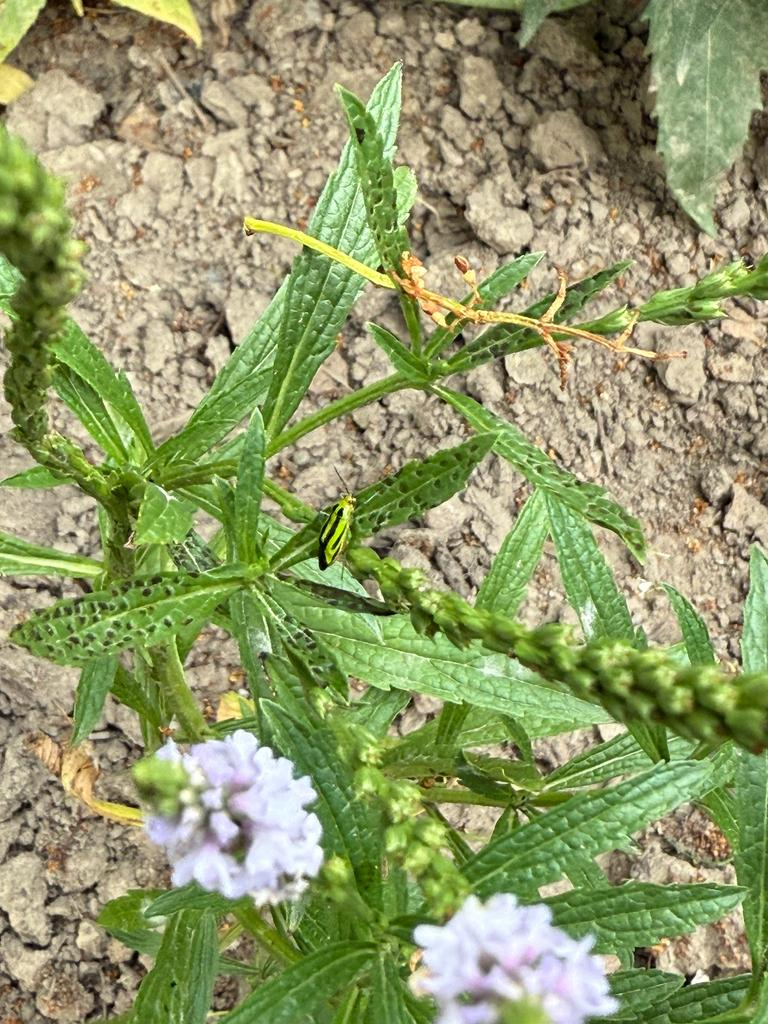plant_bugs: (294, 446, 387, 583)
